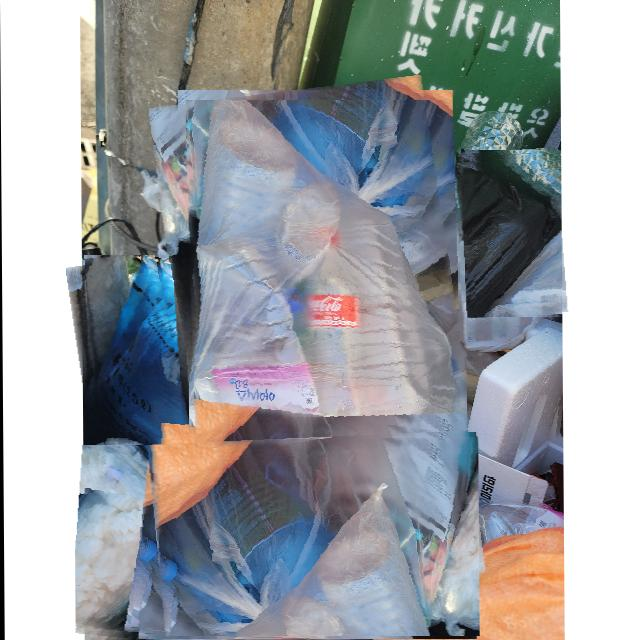other_trashbag: (191, 100, 466, 584), (153, 438, 478, 636), (74, 445, 212, 631), (91, 255, 188, 488), (455, 162, 561, 316)
